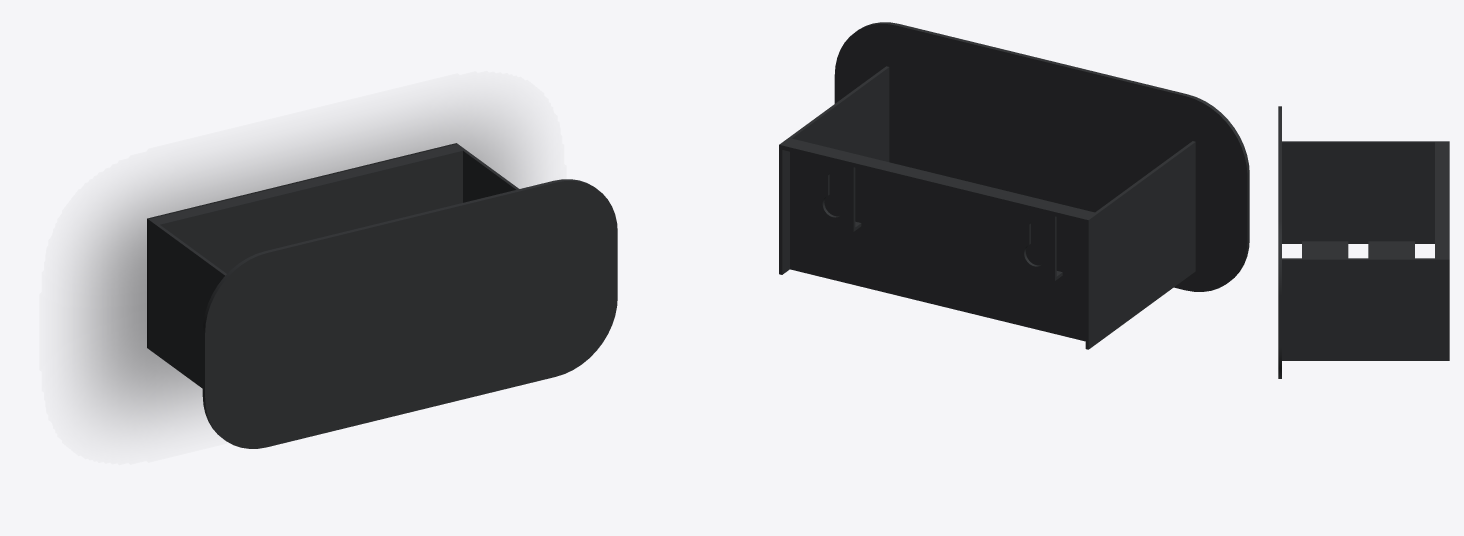
The model's file is radius-mono.a8f460c904.ar.glb.
3 views of the same model, side by side, from view 1: azimuth 30°, elevation 25°; view 2: azimuth 150°, elevation 25°; view 3: azimuth 270°, elevation 25° (orthographic). The views are drawn at different scales.
Visible parts, largest first — view 1: NAUO1, object 2; view 2: NAUO1; view 3: NAUO1.
Part boxes in pixels (box(x1,y1,x2,y2)): NAUO1: box(147, 143, 617, 448); object 2: box(79, 117, 526, 418); NAUO1: box(779, 22, 1249, 349); NAUO1: box(1278, 106, 1449, 378).
Size of the model in its own units: 0.28 by 0.17 by 0.092.
2 materials, 1 textured.
